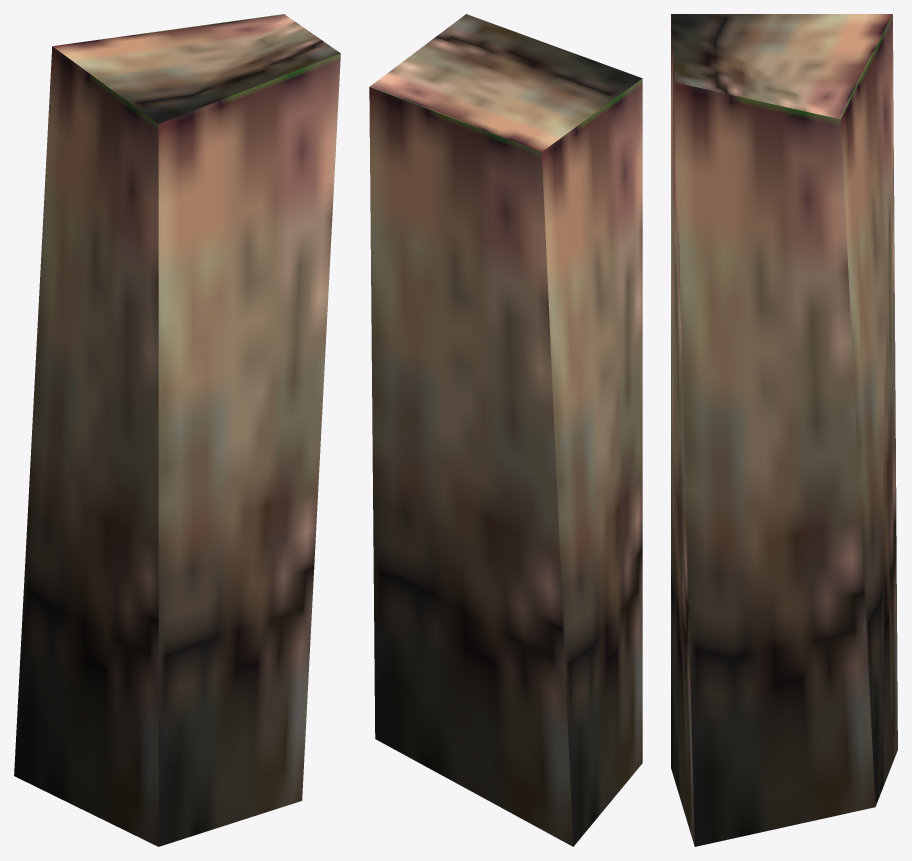
The model's file is USA - Base Infrastructure - Power Plant - Damage State 06 - ABPWRPLANT_d06.glb.
3 renders of one model, left to right at view 1: azimuth 30°, elevation 25°; view 2: azimuth 150°, elevation 25°; view 3: azimuth 270°, elevation 25°, orthographic. The views are drawn at different scales.
Parts seen in each view (by area): view 1: ABPWRPLANT_D06; view 2: ABPWRPLANT_D06; view 3: ABPWRPLANT_D06.
Boxes of the visible parts, bbox=[...] form: ABPWRPLANT_D06: bbox=[14, 14, 340, 846]; ABPWRPLANT_D06: bbox=[369, 14, 642, 846]; ABPWRPLANT_D06: bbox=[671, 14, 897, 846].
Bounding box in the file's own units: 1.82 × 5.35 × 1.41.
Materials: 1 (1 with a texture image).
